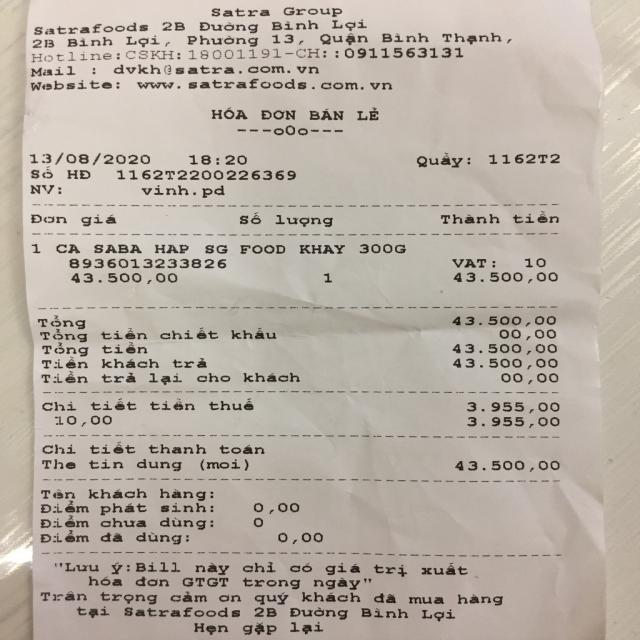Date: (23, 148, 152, 168)
Store_Name: (206, 4, 349, 20)
amount_number: (452, 339, 560, 358)
label_total: (35, 338, 150, 356)
